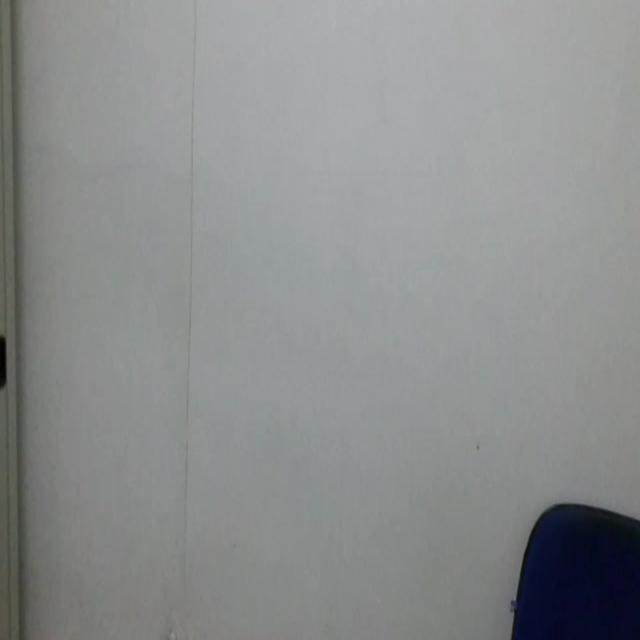Crack: (176, 0, 206, 640)
